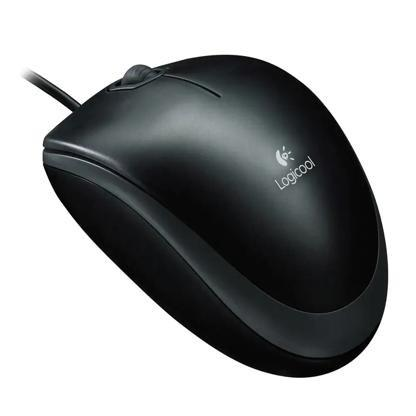not trash: (44, 53, 393, 378)
